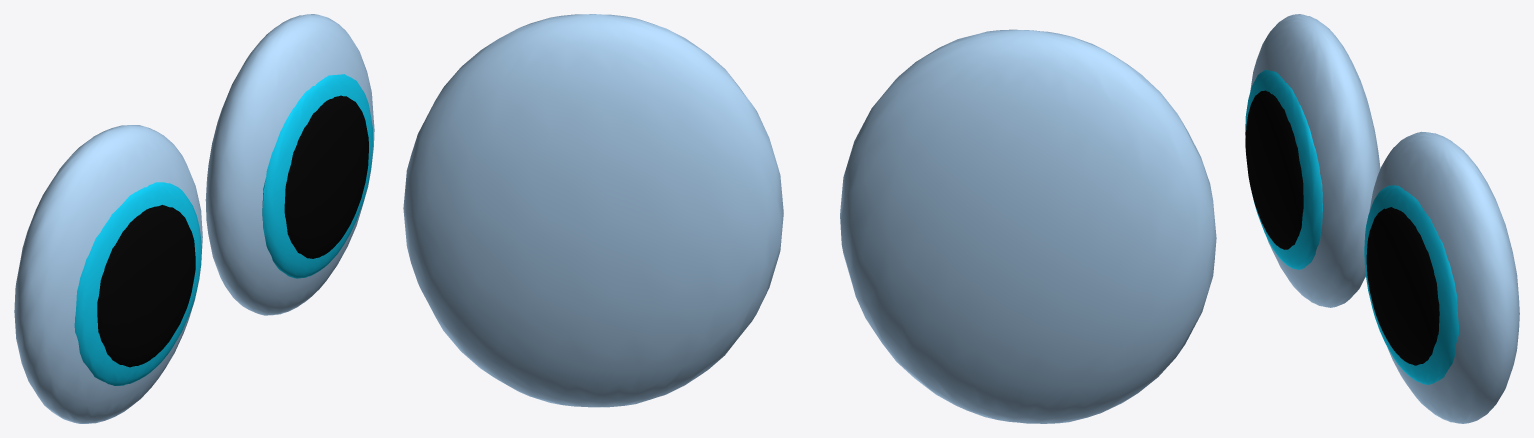
3 renders of one model, left to right at view 1: azimuth 30°, elevation 25°; view 2: azimuth 150°, elevation 25°; view 3: azimuth 270°, elevation 25°, orthographic. The views are drawn at different scales.
Parts seen in each view (by area): view 1: Sphere.001, Sphere_1.001, Sphere_2.001; view 2: Sphere.001; view 3: Sphere.001, Sphere_1.001, Sphere_2.001.
Boxes of the visible parts, box(x1,y1,x2,y2) form: Sphere.001: box(14, 14, 374, 423); Sphere_1.001: box(97, 95, 368, 367); Sphere_2.001: box(74, 74, 372, 385); Sphere.001: box(403, 14, 1216, 423); Sphere.001: box(1250, 14, 1519, 423); Sphere_1.001: box(1245, 90, 1439, 365); Sphere_2.001: box(1245, 69, 1458, 384).
Size of the model in its own units: 67.94 by 35.79 by 39.53.
